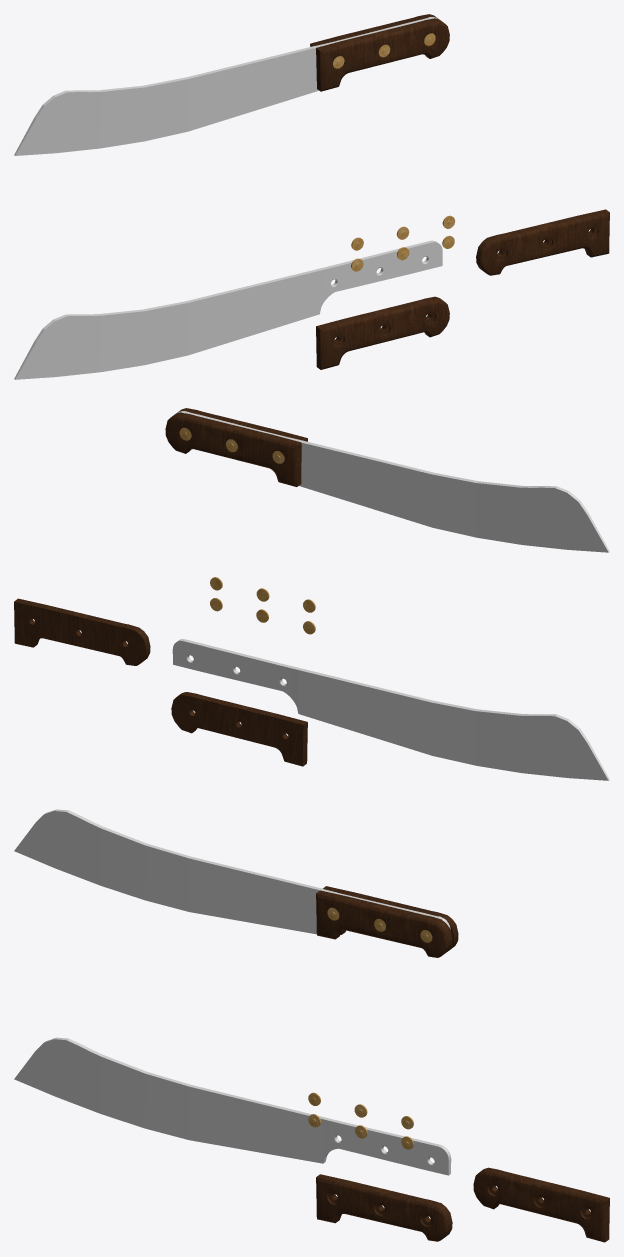
3 renders of one model, top to bottom at view 1: azimuth 30°, elevation 25°; view 2: azimuth 150°, elevation 25°; view 3: azimuth 330°, elevation 25°, orthographic.
Parts seen in each view (by area): view 1: object 8, Lame, object 7, Plaquettes; view 2: object 8, Lame, object 7, Plaquettes; view 3: object 8, Lame, object 7, Plaquettes.
Part boxes in pixels (x1,y1,x2,y2): object 8: (14,240,442,379); Lame: (14,17,437,155); object 7: (316,209,609,369); Plaquettes: (310,14,449,91); object 8: (172,639,609,780); Lame: (178,411,609,552); object 7: (14,598,307,766); Plaquettes: (165,408,307,486); object 8: (14,1037,451,1175); Lame: (14,809,450,934); object 7: (316,1167,609,1242); Plaquettes: (316,886,458,957).
Size of the model in its own units: 0.7191 by 0.3926 by 0.0667.
Materials: 3 (2 with a texture image).
